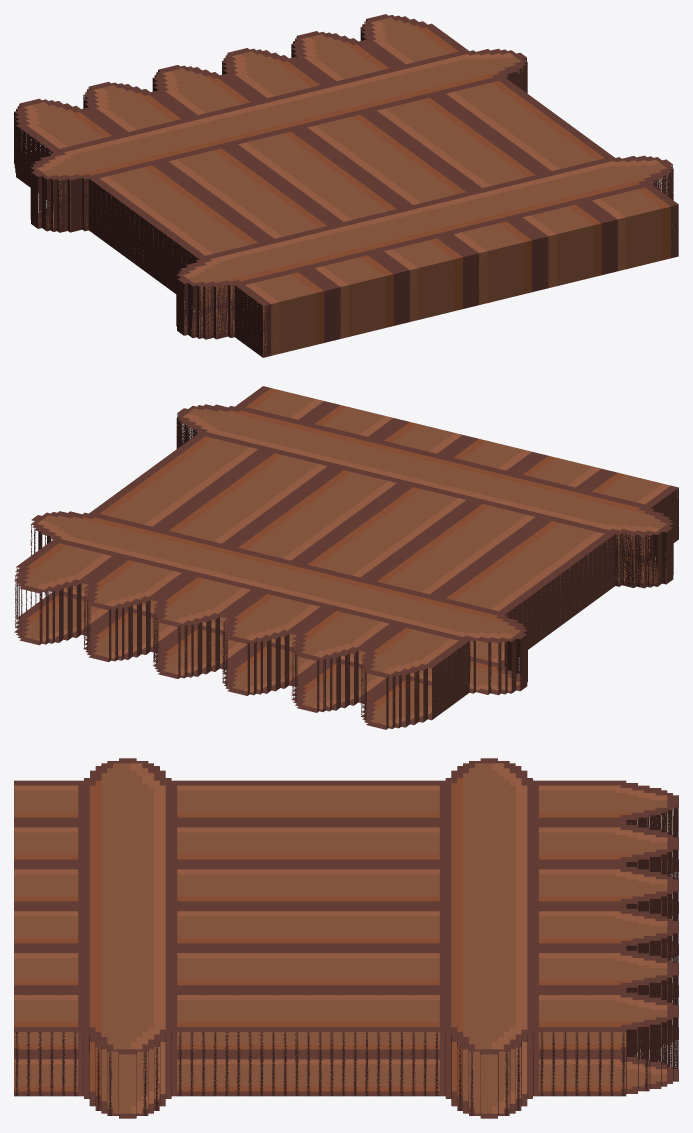
File: wooden_wall.fbx
3 renders of one model, top to bottom at view 1: azimuth 30°, elevation 25°; view 2: azimuth 150°, elevation 25°; view 3: azimuth 270°, elevation 25°, orthographic. The views are drawn at different scales.
Parts seen in each view (by area): view 1: Plane; view 2: Plane; view 3: Plane.
Boxes of the visible parts, x1,y1,x2,y2 form: Plane: (14, 14, 678, 357); Plane: (14, 386, 678, 729); Plane: (14, 758, 678, 1118).
Bounding box in the file's own units: 188 × 19 × 178.
1 material, 1 textured.
